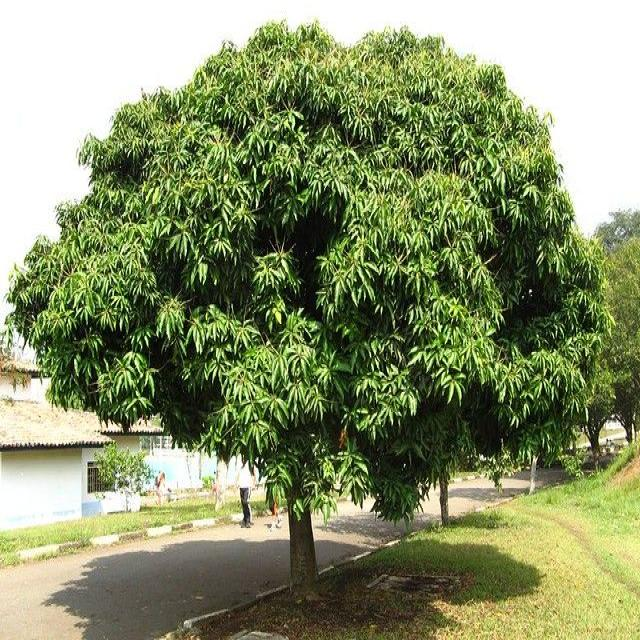Mango-Tree: (6, 0, 619, 573)
